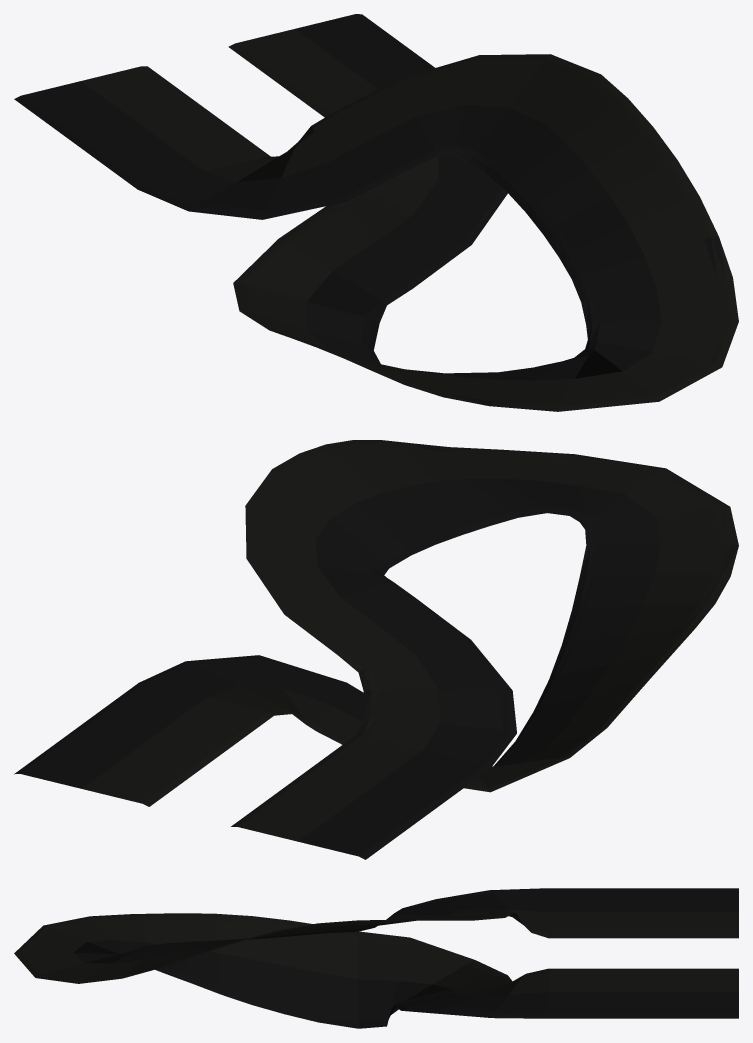
The model's file is vai la e da uma volta.gltf.
3 renders of one model, top to bottom at view 1: azimuth 30°, elevation 25°; view 2: azimuth 150°, elevation 25°; view 3: azimuth 270°, elevation 25°, orthographic. The views are drawn at different scales.
Parts seen in each view (by area): view 1: regular_1.001; view 2: regular_1.001; view 3: regular_1.001.
Boxes of the visible parts, x1,y1,x2,y2 form: regular_1.001: (14,14,738,411); regular_1.001: (14,440,738,859); regular_1.001: (14,888,738,1028).
Bounding box in the file's own units: 104 × 70 × 244.
1 material, 1 textured.
